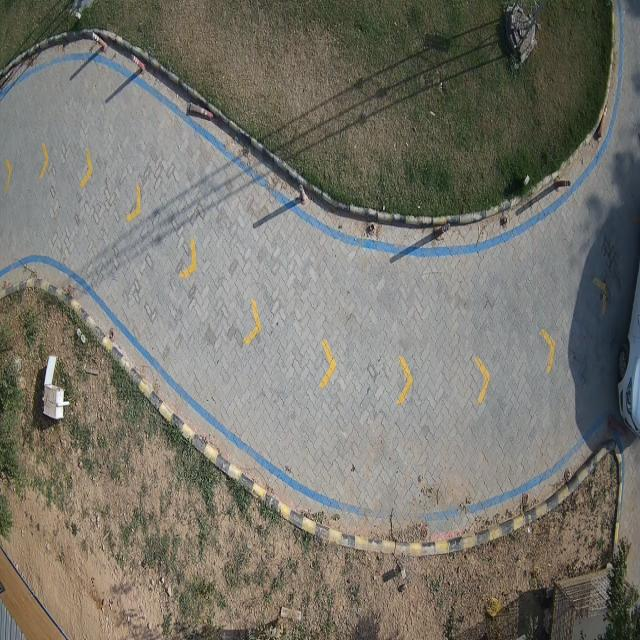car: (618, 274, 640, 440)
